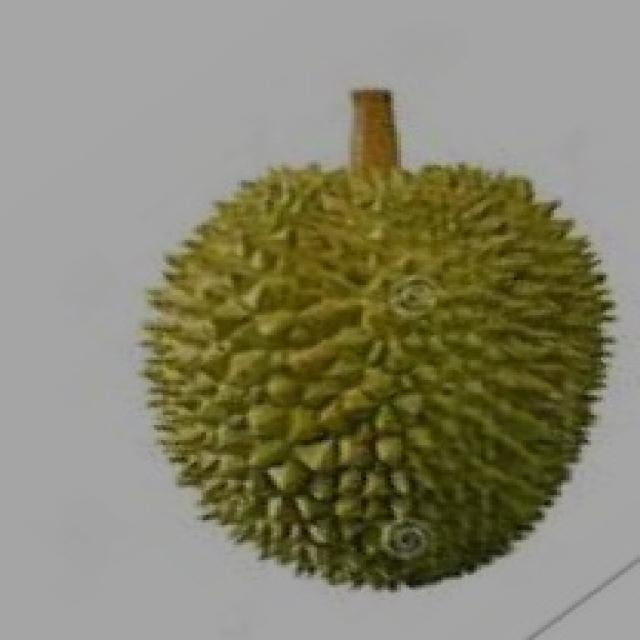fruit: (271, 207, 640, 625)
